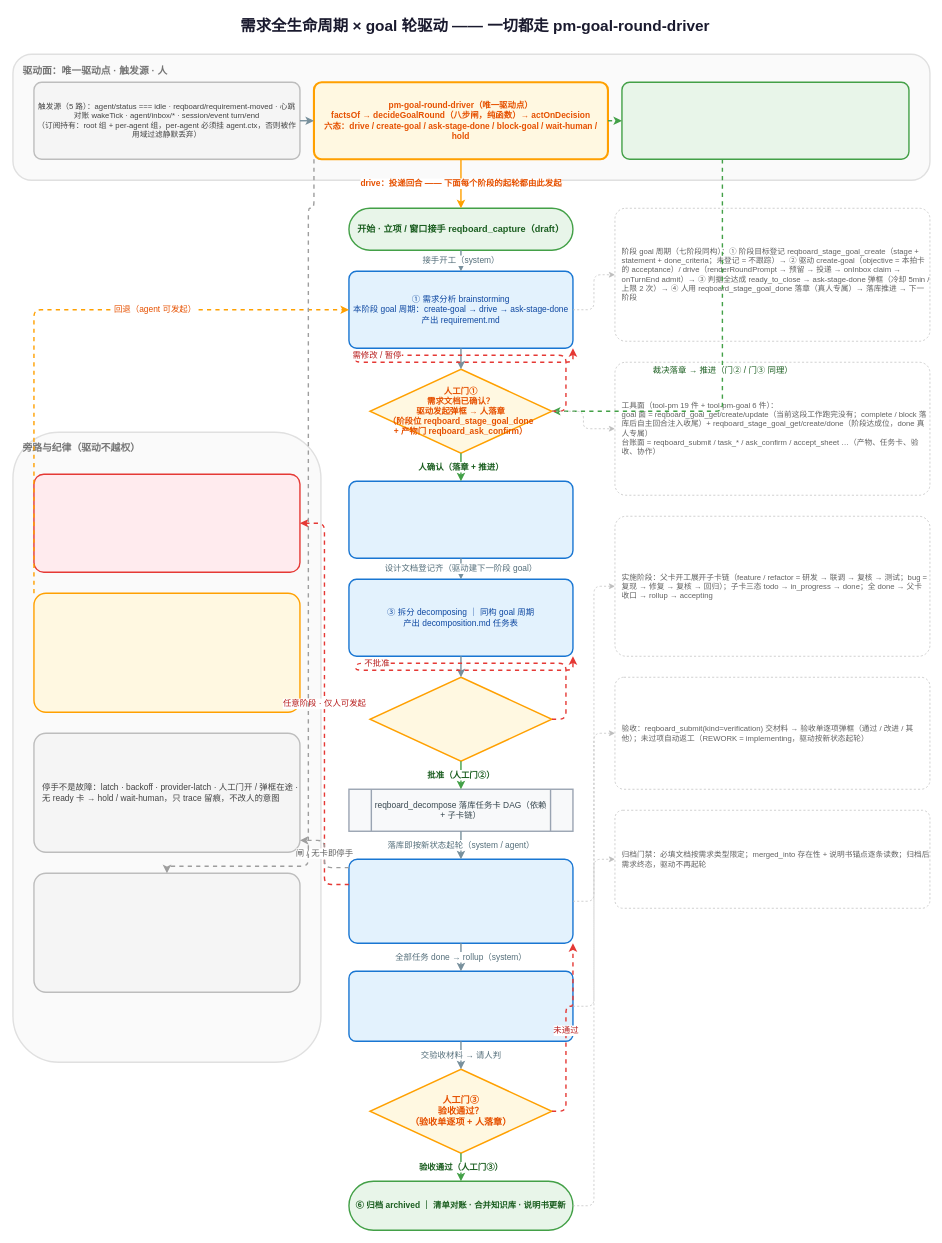
Some shapes in this 942 by 1243 pixel diagram are drawn without their labels. Each missing label, with the centre of its shape:
canceled：在途阶段取消（仅人；驱动 / agent 报 human_gate）；canceled → draft 复活同样仅人: the point at 166,523
② 设计 design ｜ 同构 goal 周期 产出 design/*.md（每节标 serves: FR-x）: the point at 460,519
④ 实施 implementing 每张卡一个 goal：create-goal → drive → admit 子卡链 研发 → 联调 → 复核 → 测试: the point at 460,901
⑤ 验收 accepting ｜ goal 周期 + 验收单逐项裁决（人）: the point at 460,1006
人工门② 批准拆分计划？ （驱动发起 → 人落章 + 推进）: the point at 460,719
人（唯一能落章 / 取消的 actor）：弹框作答 · 看板一键确认 · 逐项验收 · resume。 驱动只发起，不代替人落章、不越权推进: the point at 765,120
回退：可退任意更早节点（agent 可发起）；回程上的三道人门不撤；目标之后阶段的确认章作废；落库后驱动按新状态起轮: the point at 166,652
心跳对账 planWake：在闸 / 不可驱动 / 有人在等 / 还新鲜 → 跳过；叫不醒达阈值 → 写停手位并留痕（防静默停摆）: the point at 166,932
